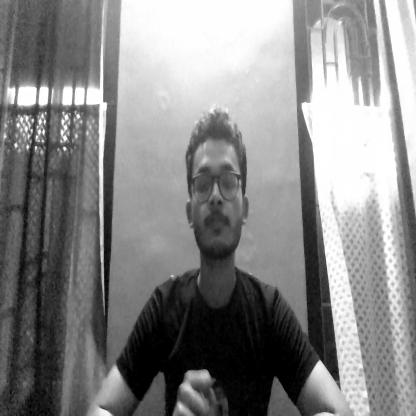Normal: (186, 112, 252, 260)
